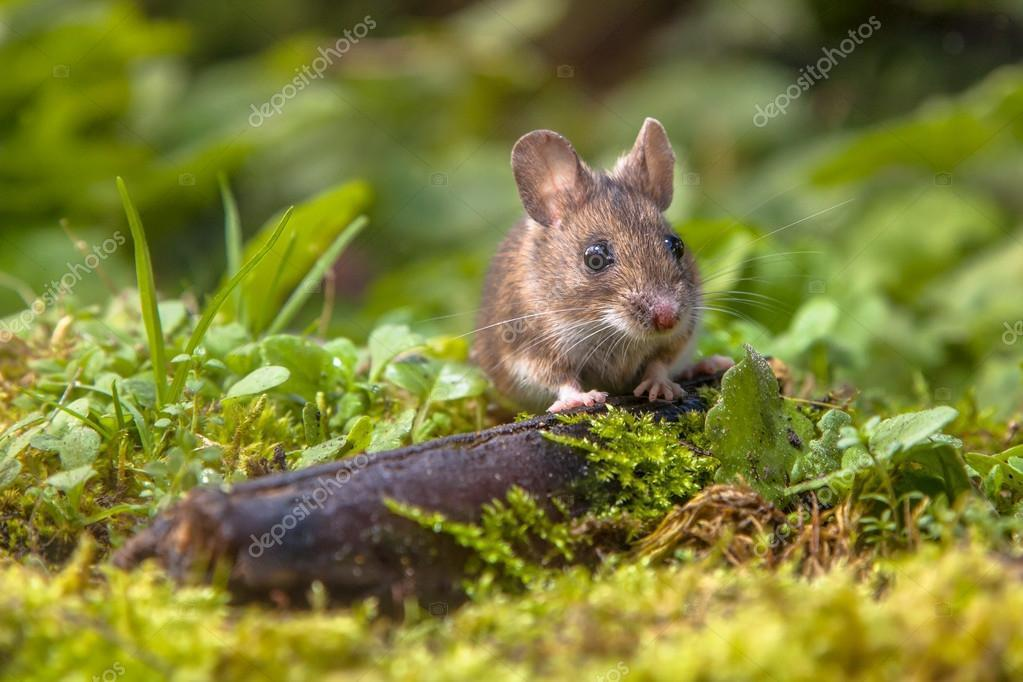rat: (476, 117, 704, 412)
